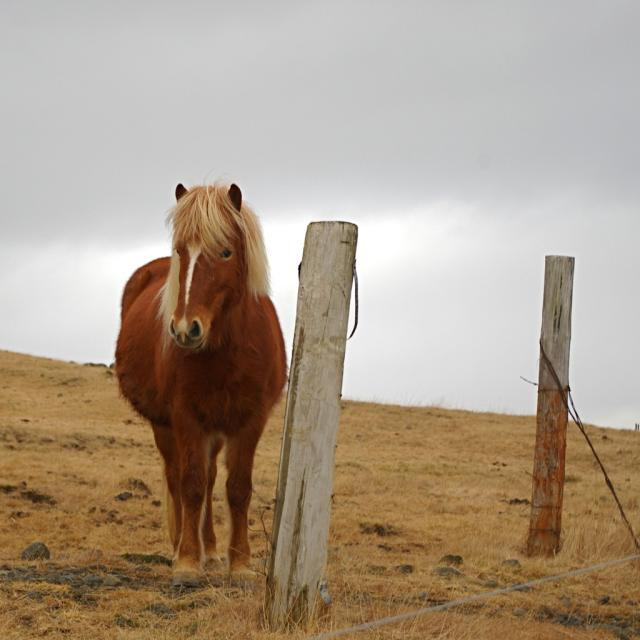Horse: (116, 182, 283, 584)
